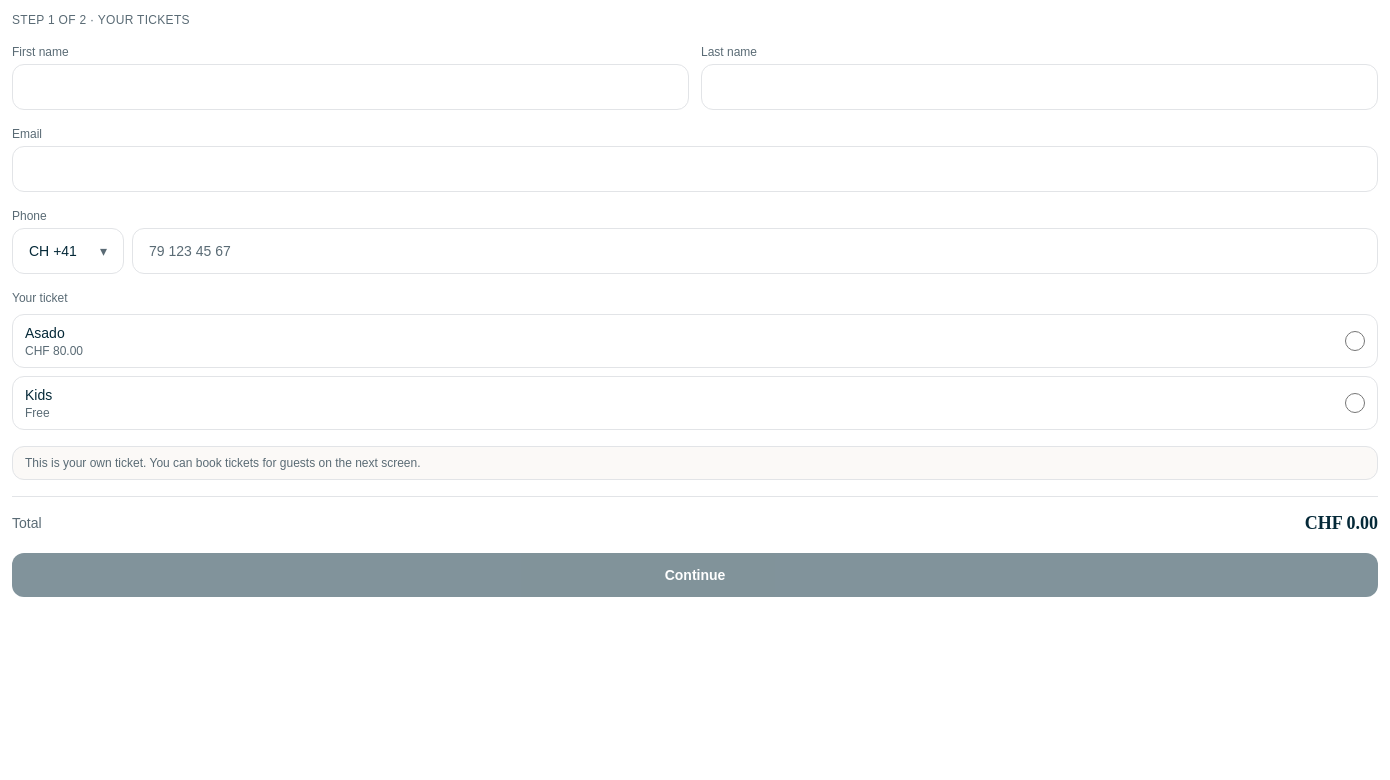
step 1 — the buyer's own tickets › keeps Continue disabled until the buyer picks a ticket for themselves
Expected: the button "Continue" is disabled, [12,553,1378,597]
Click the radio button labelled "Kids Free". click: point(1355, 403)
box: [1345,393,1365,413]
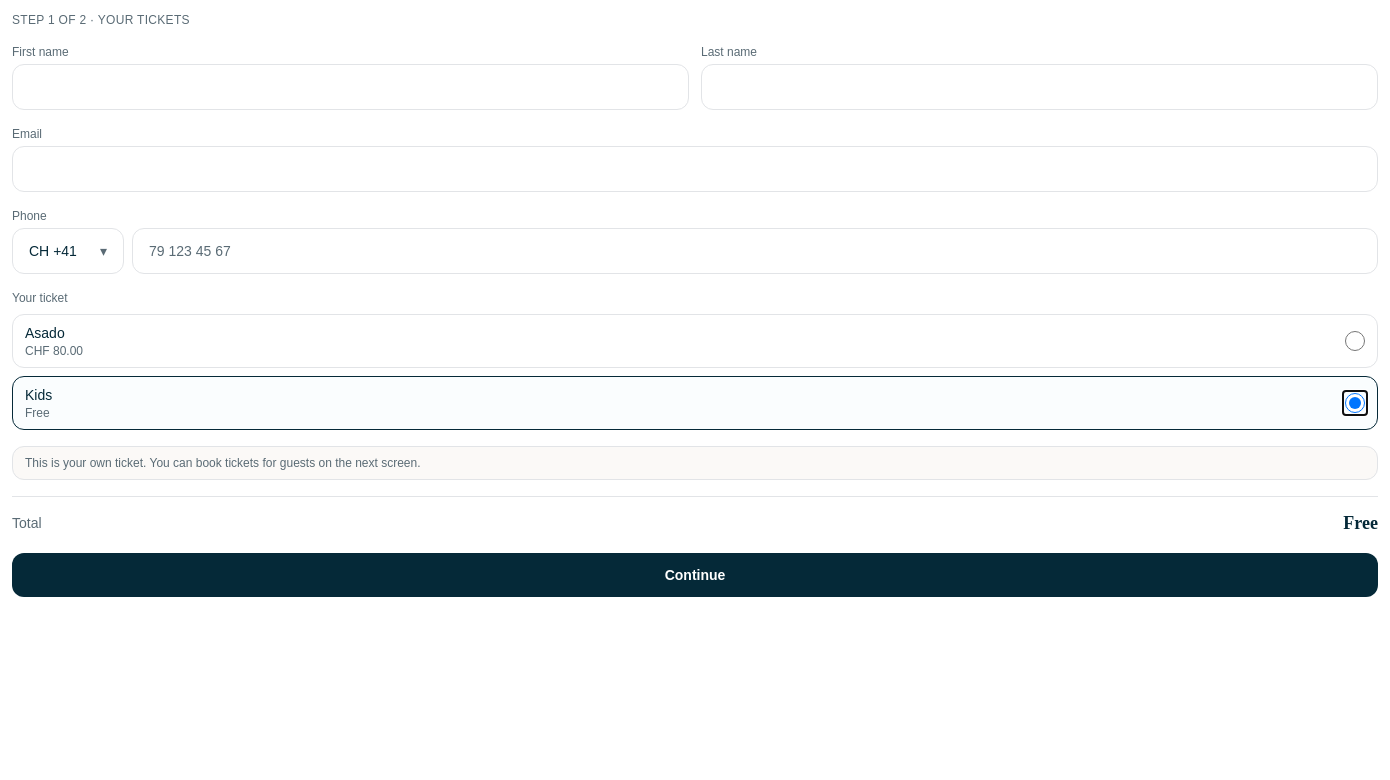
Result: the button "Continue" is enabled at [12,553,1378,597]
